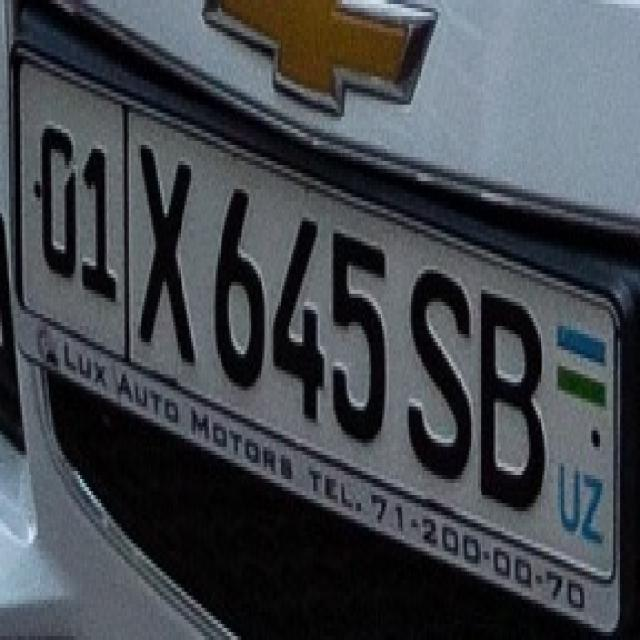0: (24, 112, 82, 282)
4: (264, 197, 332, 423)
5: (322, 209, 393, 443)
6: (200, 169, 274, 395), (562, 572, 584, 608)
B: (466, 274, 552, 515)
L: (62, 129, 122, 302)
S: (394, 250, 474, 483)
X: (124, 128, 200, 366)
